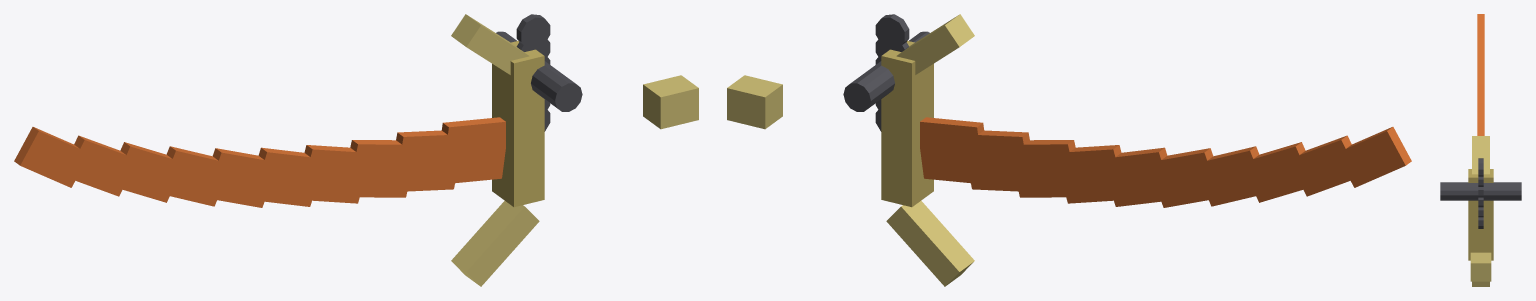
Rendered from lav_buyuk_kilic.glb.
3 renders of one model, left to right at view 1: azimuth 30°, elevation 25°; view 2: azimuth 150°, elevation 25°; view 3: azimuth 270°, elevation 25°, orthographic. The views are drawn at different scales.
Parts seen in each view (by area): view 1: geometry_0; view 2: geometry_0; view 3: geometry_0.
Boxes of the visible parts, x1=… form: geometry_0: x1=14, y1=14, x2=698, y2=286; geometry_0: x1=727, y1=14, x2=1411, y2=286; geometry_0: x1=1440, y1=14, x2=1521, y2=286.
Bounding box in the file's own units: 0.8808 × 0.3273 × 0.16.
